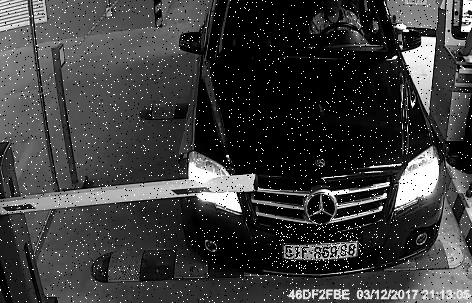License-plate: (276, 224, 364, 270)
